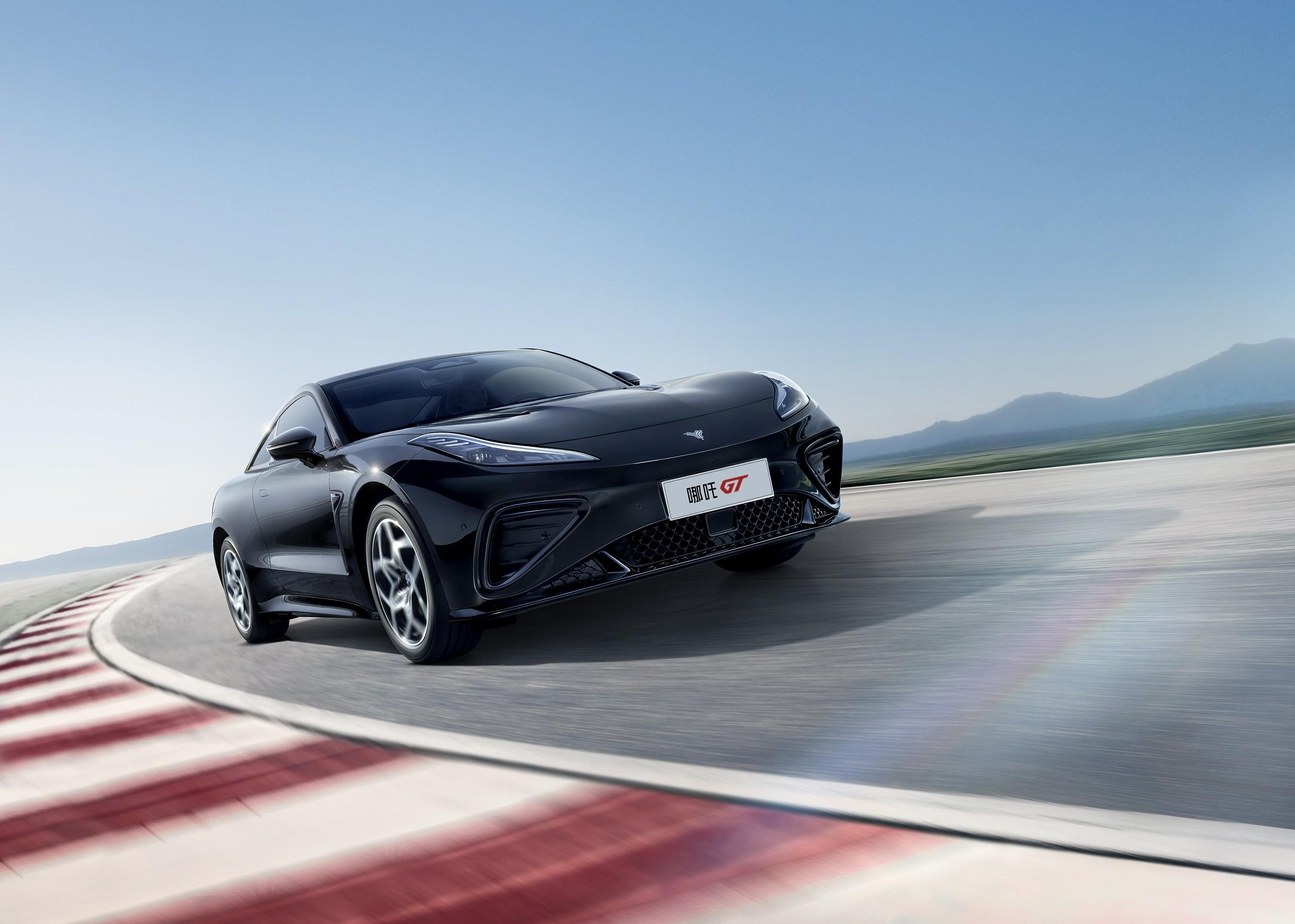NETA: (683, 429, 705, 441)
